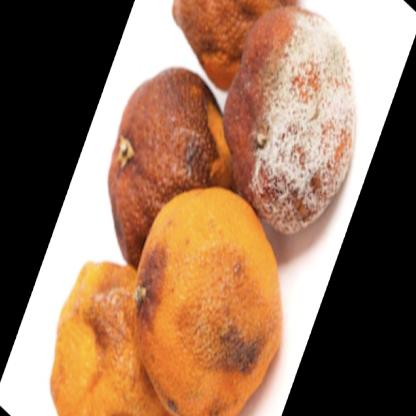rotten: (52, 1, 356, 416)
